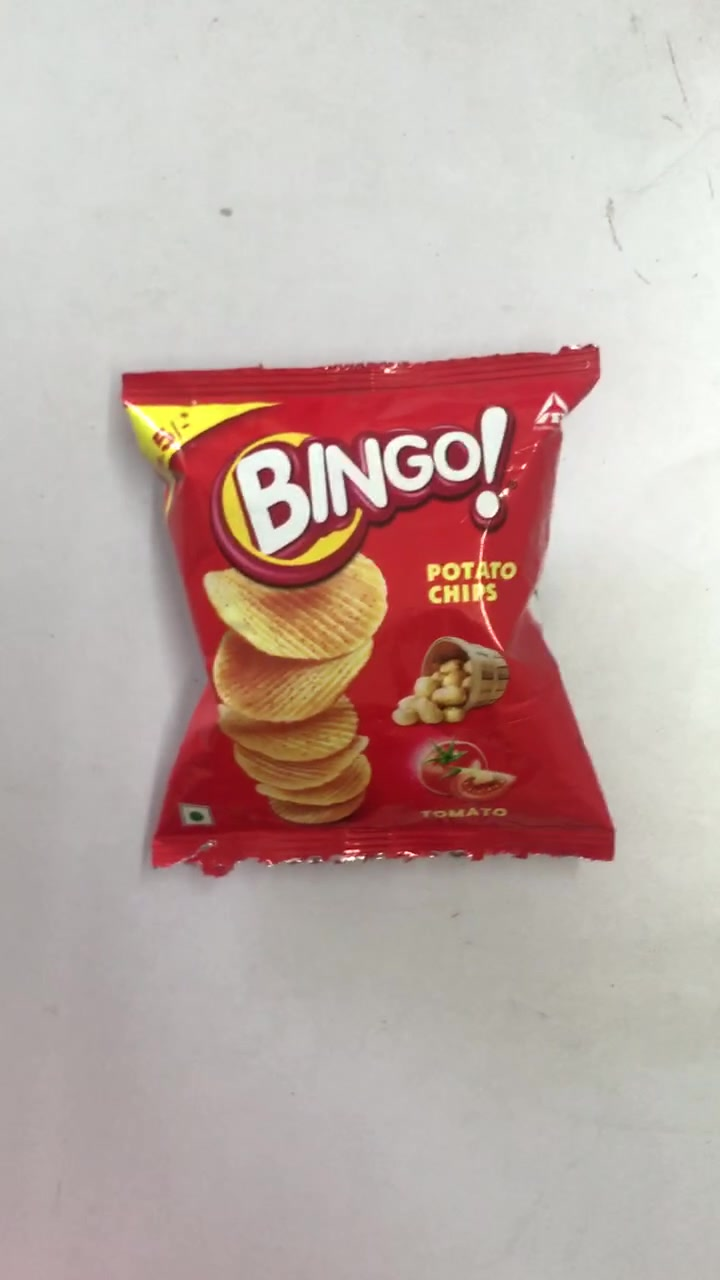Bingo: (126, 363, 614, 848)
